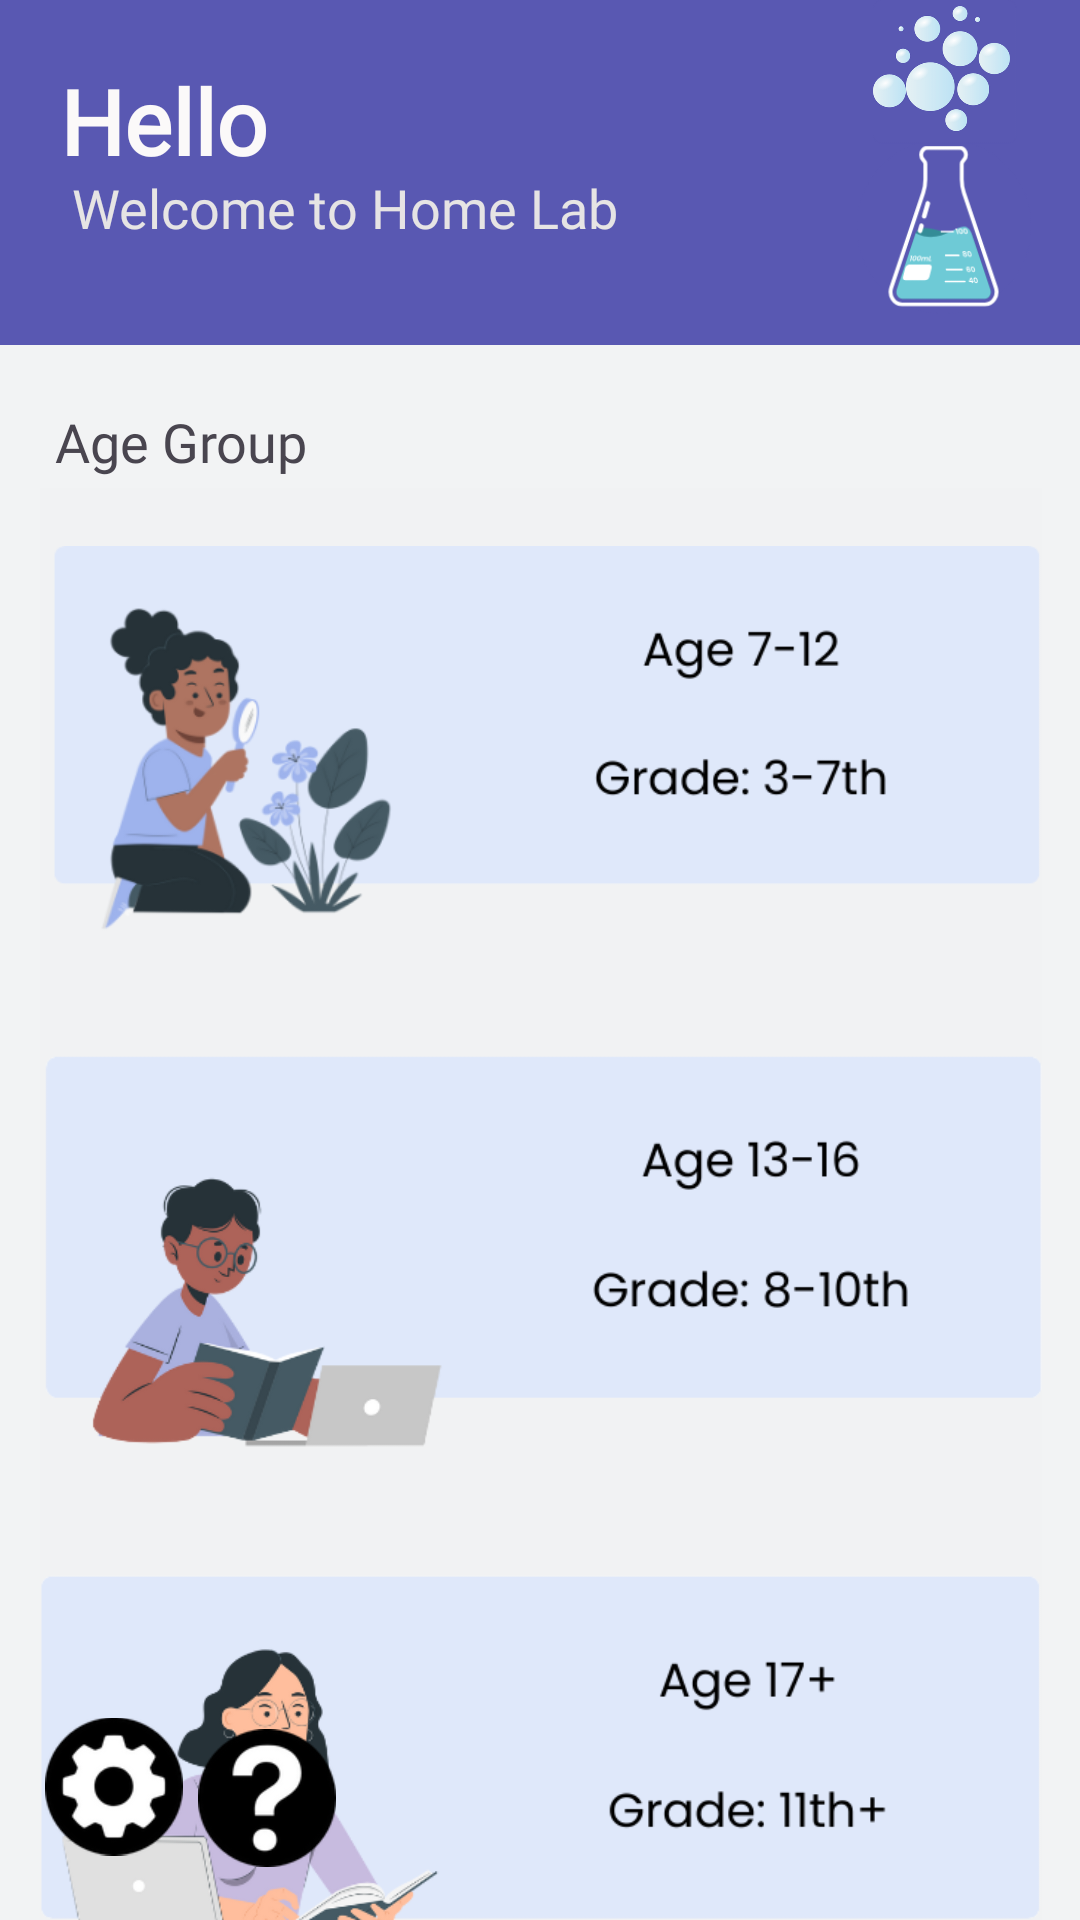

Icons on this 1080*1920 Android screen, each with its box as (x1, y1, x2, y2):
bubbles: (873, 6, 1010, 131)
settings: (45, 1718, 183, 1860)
